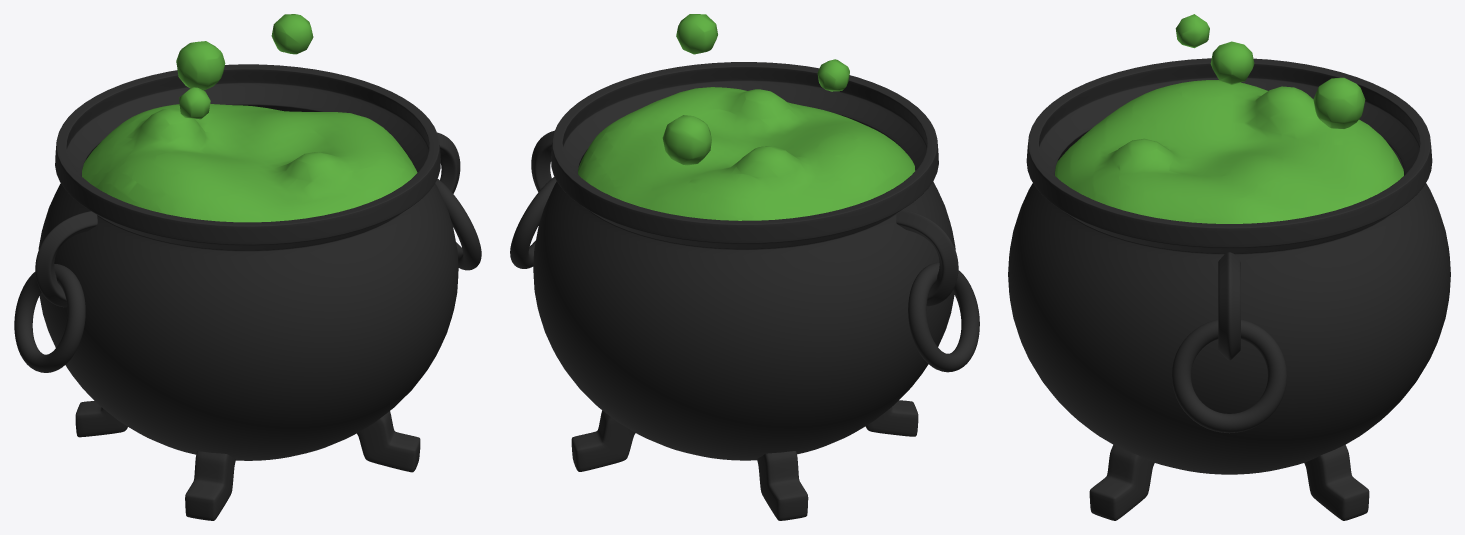
Rendered from cauldron.glb.
The picture shows the model from 3 angles, left to right: view 1: azimuth 30°, elevation 25°; view 2: azimuth 150°, elevation 25°; view 3: azimuth 270°, elevation 25°; orthographic projection. The views are drawn at different scales.
Parts seen in each view (by area): view 1: Sphere.001; view 2: Sphere.001; view 3: Sphere.001.
Part boxes in pixels (x1,y1,x2,y2): Sphere.001: (14,14,481,520); Sphere.001: (510,14,979,520); Sphere.001: (1008,14,1450,520).
Size of the model in its own units: 1.27 by 1.17 by 1.05.
2 materials, 2 textured.
